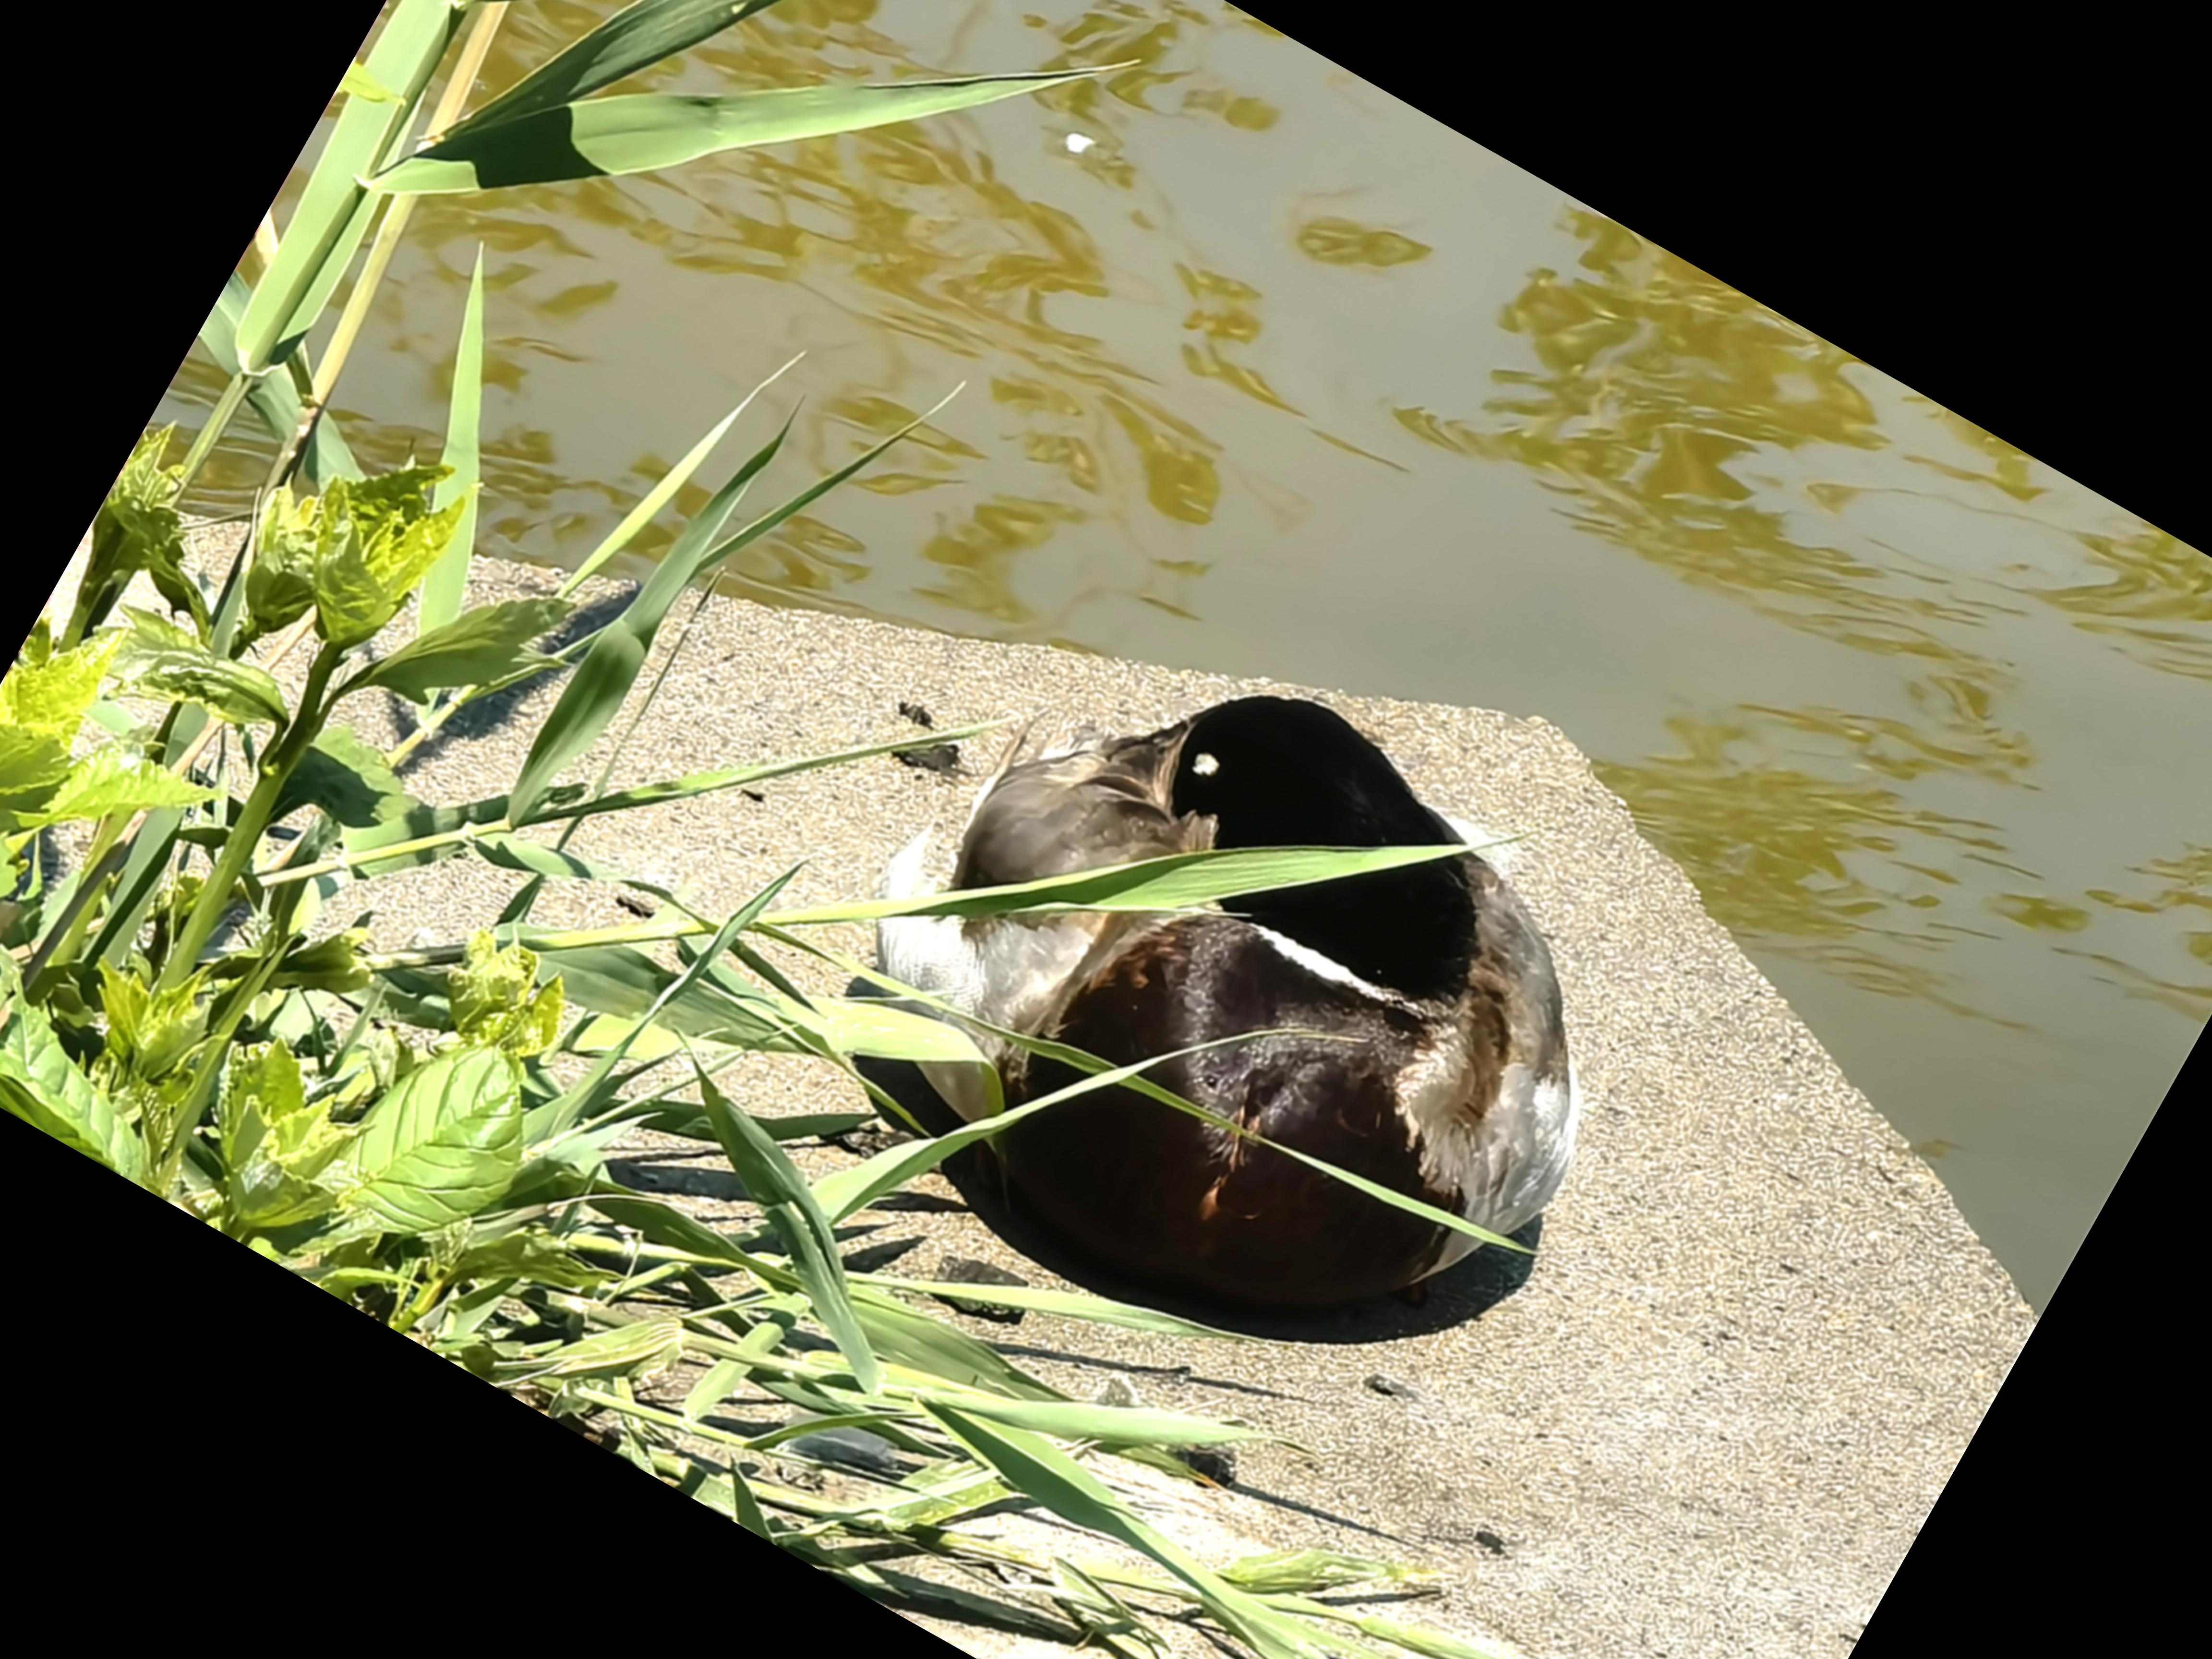duck: (742, 519, 1768, 1473)
